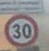limite 30: (3, 12, 39, 48)
